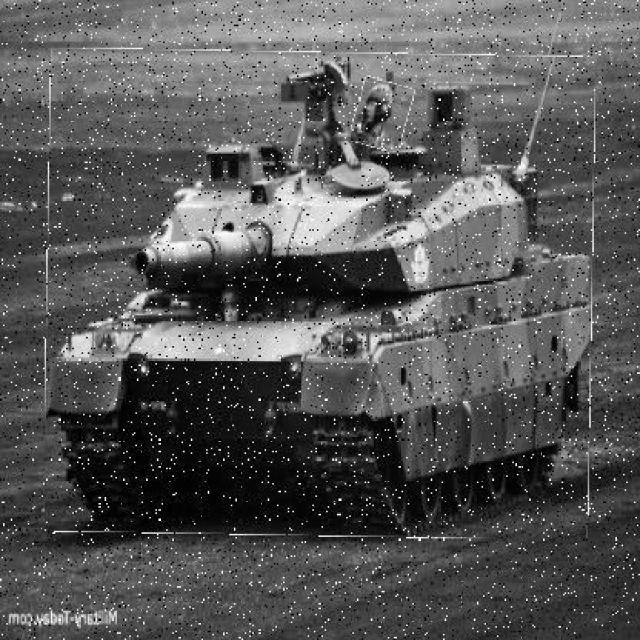Person: (354, 79, 414, 152)
Tank: (46, 51, 595, 540)
